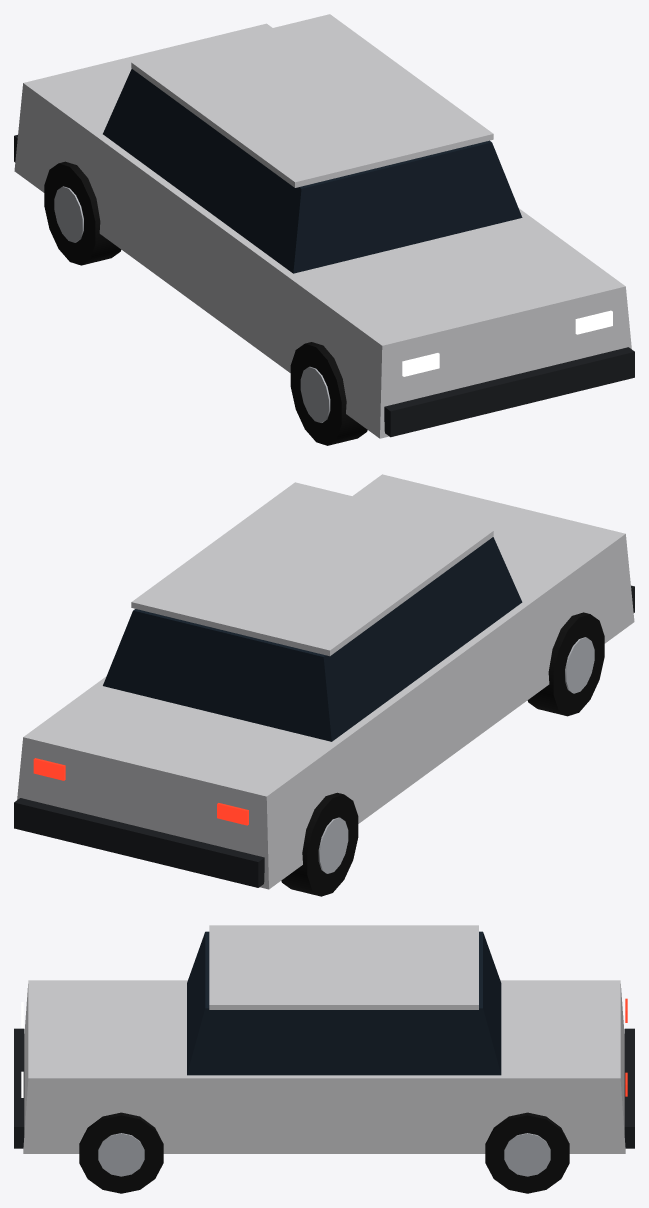
Rendered from sedan-0.glb.
3 renders of one model, top to bottom at view 1: azimuth 30°, elevation 25°; view 2: azimuth 150°, elevation 25°; view 3: azimuth 270°, elevation 25°, orthographic. The views are drawn at different scales.
Bounding box in the file's own units: 1.93 × 1.48 × 4.74.
